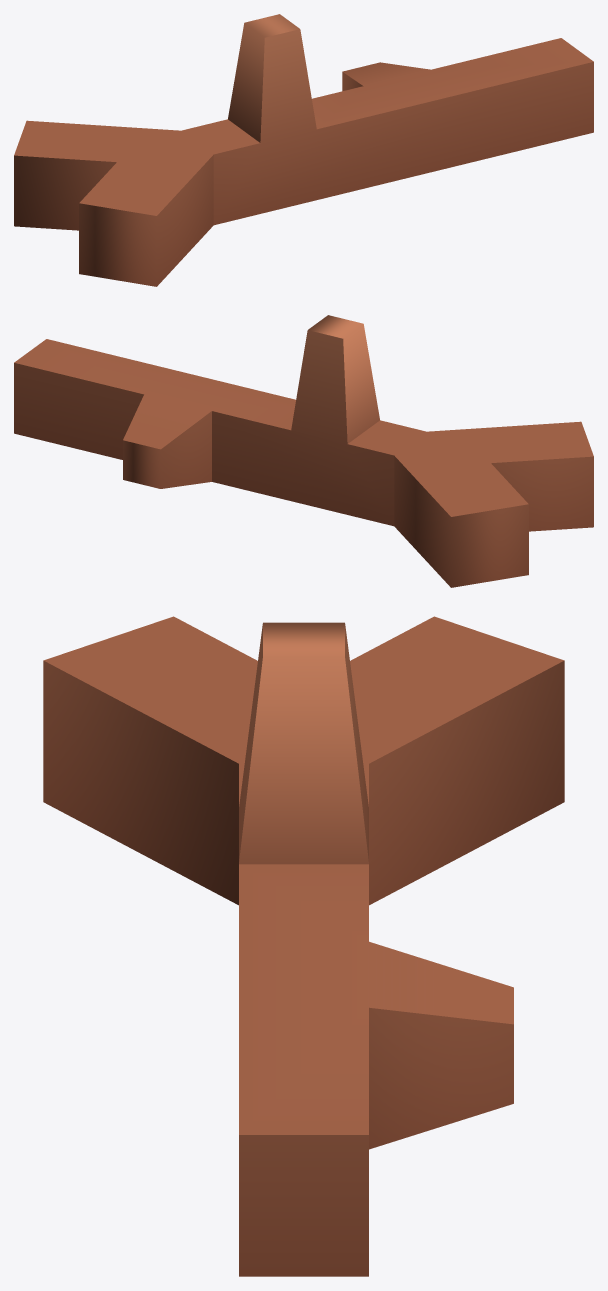
The model's file is survival-resource-wood.glb.
3 views of the same model, one above another, from view 1: azimuth 30°, elevation 25°; view 2: azimuth 150°, elevation 25°; view 3: azimuth 270°, elevation 25° (orthographic). The views are drawn at different scales.
Visible parts, largest first — view 1: survival-resource-wood; view 2: survival-resource-wood; view 3: survival-resource-wood.
Boxes of the visible parts, box(x1,y1,x2,y2) form: survival-resource-wood: box(14, 14, 593, 286); survival-resource-wood: box(14, 315, 593, 587); survival-resource-wood: box(43, 616, 564, 1276).
Bounding box in the file's own units: 0.205 × 0.0624 × 0.0871.
